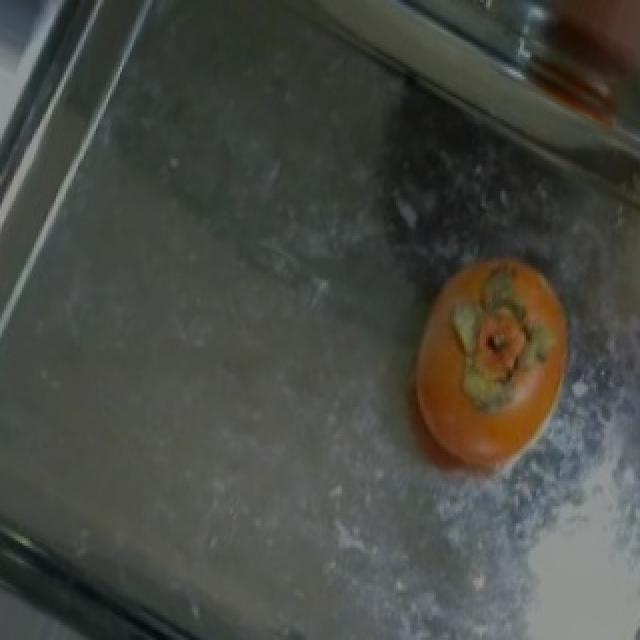Fruit: (386, 238, 596, 501)
